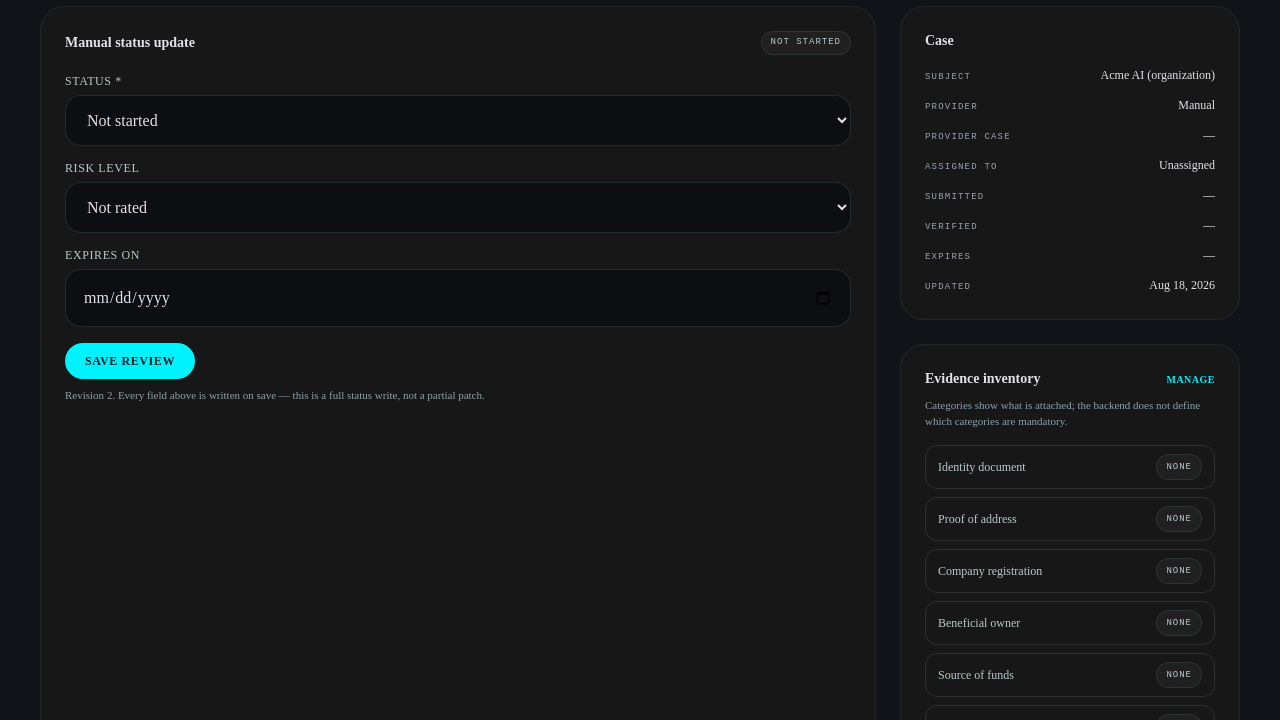
Scenario: KYC and NCNDA approved gateway integration › reloads KYC after a revision conflict instead of retrying a stale update
(page scrolled)
Click the button "Save review".
click(130, 360)  # box [65, 342, 195, 378]
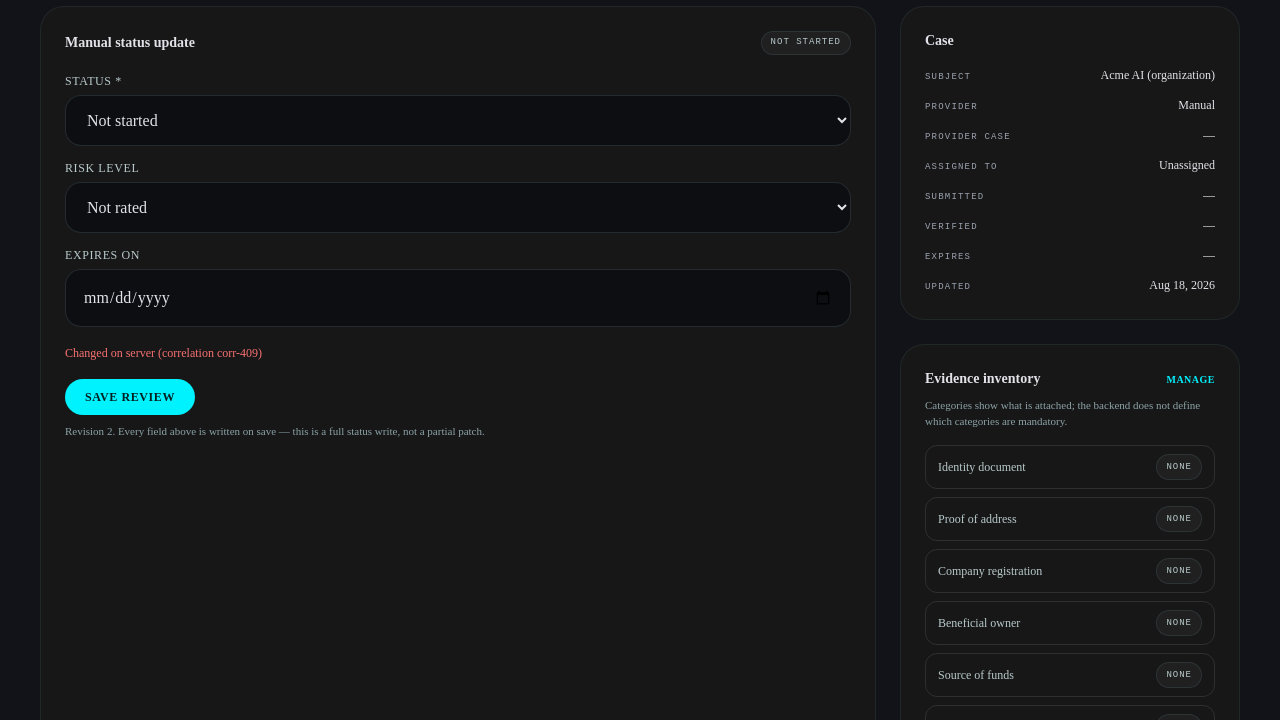
Result: the message shows "correlation corr-409" at [65, 346, 262, 360]
